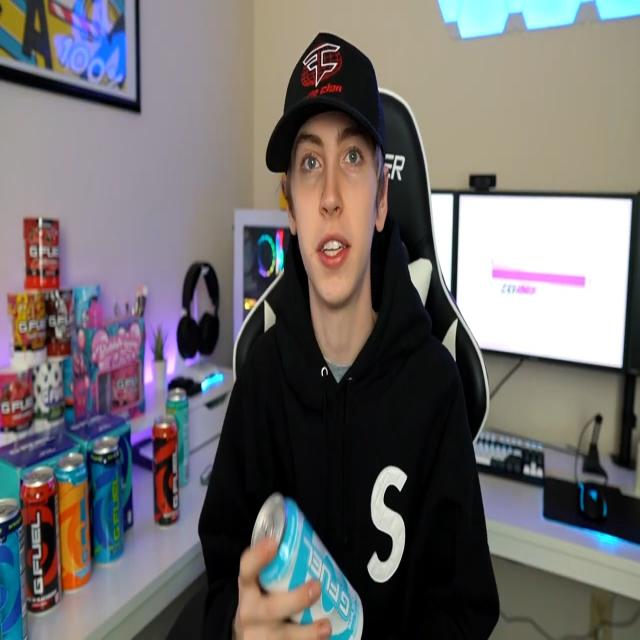can: (250, 493, 364, 640)
